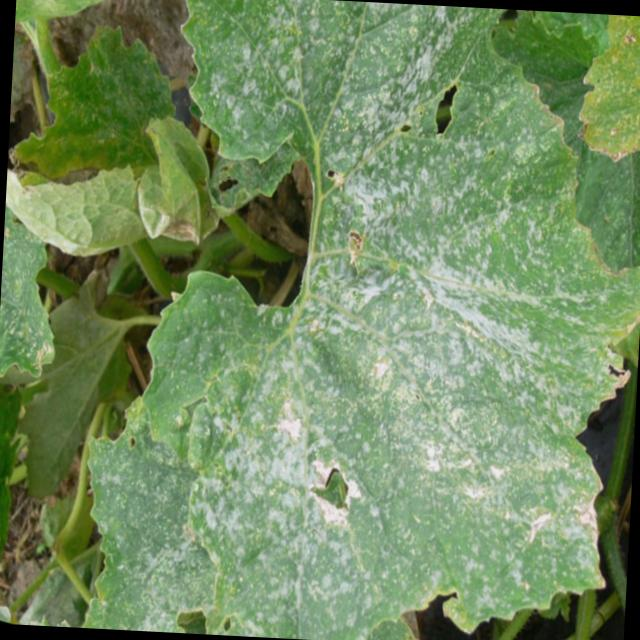Powdery_Mildew: (141, 0, 640, 637), (78, 272, 455, 640), (149, 0, 577, 232), (436, 277, 640, 640)
